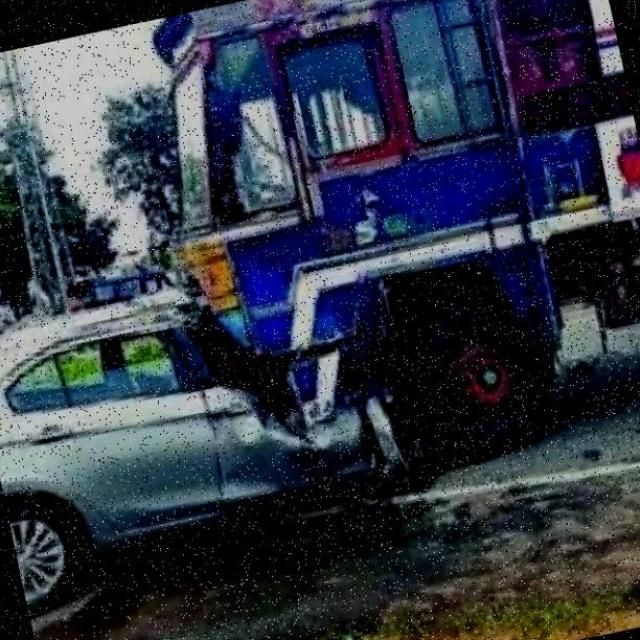accident: (0, 180, 442, 593)
